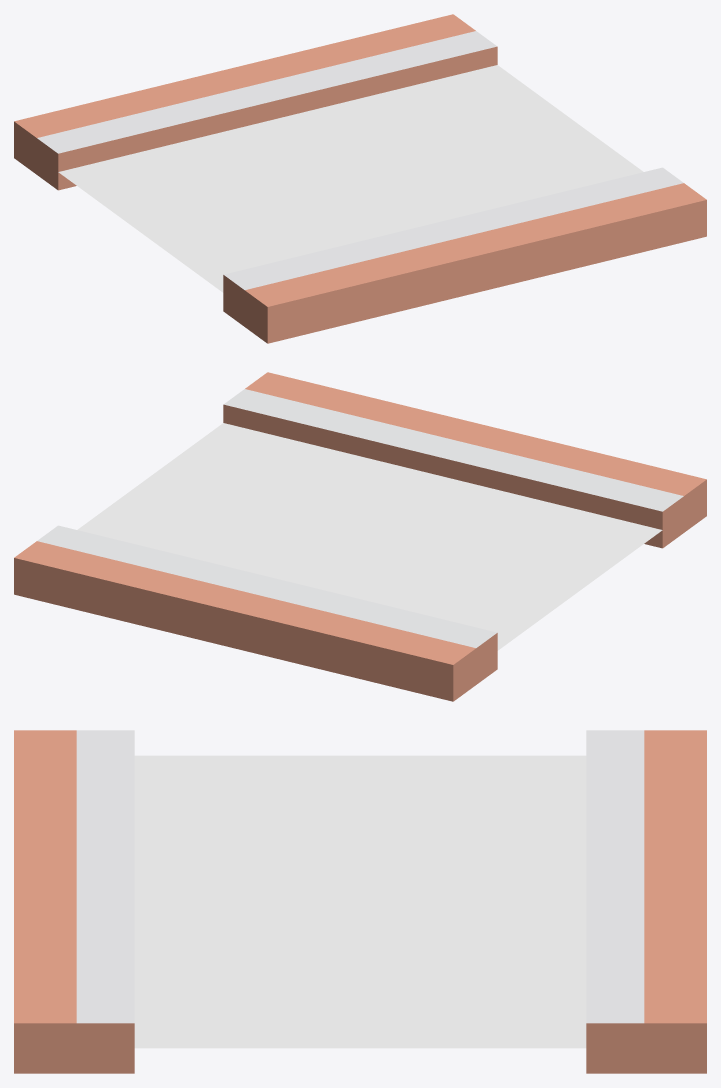
The model's file is metalTileConnectStraight.glb.
3 views of the same model, one above another, from view 1: azimuth 30°, elevation 25°; view 2: azimuth 150°, elevation 25°; view 3: azimuth 270°, elevation 25° (orthographic). The views are drawn at different scales.
Visible parts, largest first — view 1: metalTileConnectStraight; view 2: metalTileConnectStraight; view 3: metalTileConnectStraight.
Part boxes in pixels (left/top/right/bottom): metalTileConnectStraight: left=14, top=14, right=706, bottom=343; metalTileConnectStraight: left=14, top=372, right=706, bottom=701; metalTileConnectStraight: left=14, top=730, right=706, bottom=1073.
Bounding box in the file's own units: 10 × 0.8 × 10.
